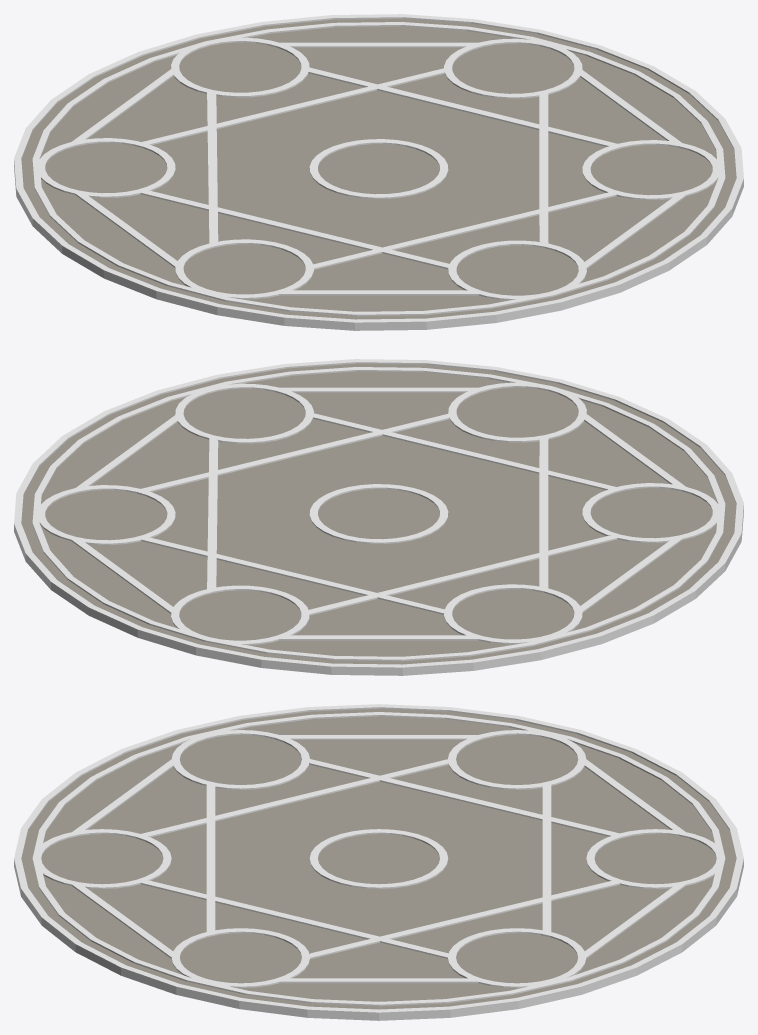
File: Alchemy Circle.fbx
3 renders of one model, top to bottom at view 1: azimuth 30°, elevation 25°; view 2: azimuth 150°, elevation 25°; view 3: azimuth 270°, elevation 25°, orthographic.
Parts seen in each view (by area): view 1: Circle.002, Zone2, Zone5, Zone3, Zone6, Zone4, Zone1; view 2: Circle.002, Zone6, Zone3, Zone2, Zone5, Zone1, Zone4; view 3: Circle.002, Zone6, Zone5, Zone2, Zone3, Zone1, Zone4.
Part boxes in pixels (x1,y1,x2,y2): Circle.002: (14, 14, 743, 330); Zone2: (379, 94, 736, 248); Zone5: (21, 90, 378, 244); Zone3: (367, 18, 688, 169); Zone6: (70, 170, 390, 319); Zone4: (76, 19, 378, 169); Zone1: (379, 170, 679, 318); Circle.002: (14, 359, 743, 675); Zone6: (379, 435, 736, 589); Zone3: (21, 439, 378, 593); Zone2: (69, 363, 390, 514); Zone5: (367, 515, 687, 664); Zone1: (379, 364, 681, 514); Zone4: (78, 515, 378, 663); Circle.002: (14, 704, 743, 1020); Zone6: (65, 708, 378, 859); Zone5: (379, 708, 692, 859); Zone2: (67, 860, 378, 1009); Zone3: (379, 860, 690, 1009); Zone1: (21, 789, 378, 930); Zone4: (379, 789, 736, 930).
Size of the model in its own units: 800 by 10 by 800.
